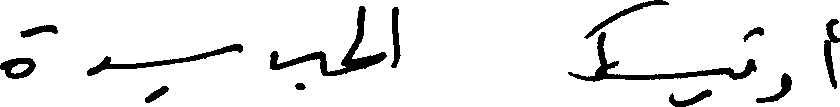ا: (820, 16, 838, 89), (389, 4, 399, 68)
ة: (0, 24, 35, 79)
ت: (667, 54, 730, 106), (733, 23, 771, 79)
ج: (297, 49, 382, 86)
د: (268, 49, 321, 71), (86, 54, 111, 76)
ك: (567, 0, 667, 83)
ل: (340, 4, 368, 51)
و: (761, 66, 793, 103)
ي: (146, 41, 242, 106)
